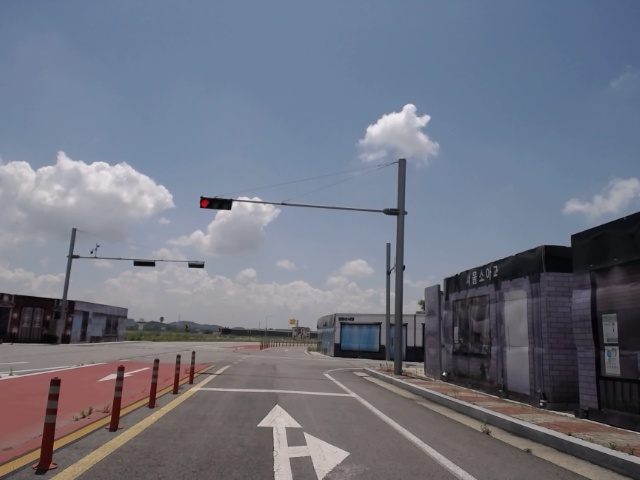red_3: (197, 195, 234, 212)
